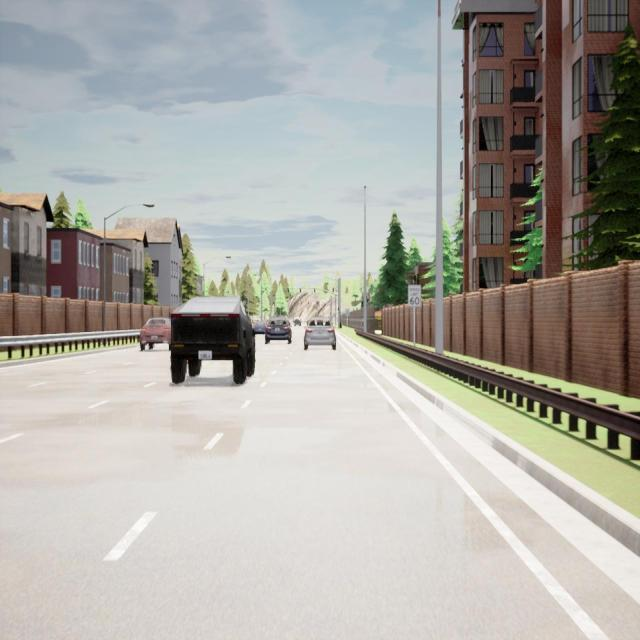Traffic_Signs: (408, 285, 422, 308)
Vehicle: (170, 294, 256, 385), (303, 312, 338, 356), (138, 316, 172, 352), (264, 315, 294, 350), (252, 318, 268, 338), (292, 316, 302, 327)
traffic_light: (287, 288, 289, 294), (314, 288, 316, 294), (300, 288, 301, 294)
